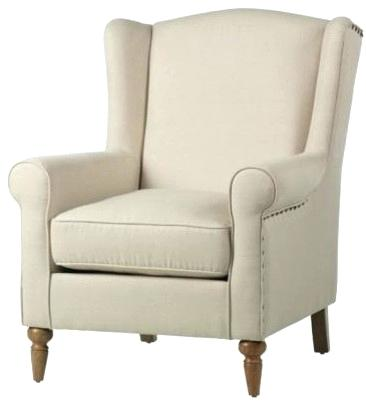chairs: (10, 8, 362, 397)
